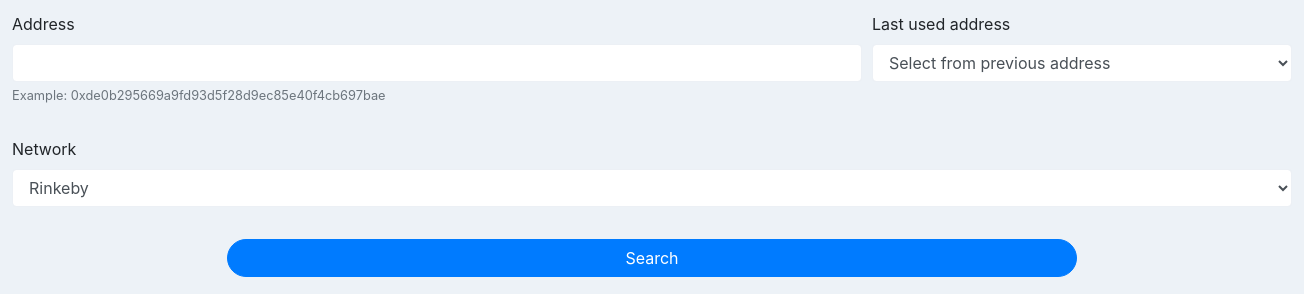
Test: Form Component › used address work correctly
Select "0xb3775fb83f7d12a36e0475abdd1fca35c091efbe" in the dropdown with id "select-addresses". click: [1082, 63]
box: [872, 44, 1292, 82]
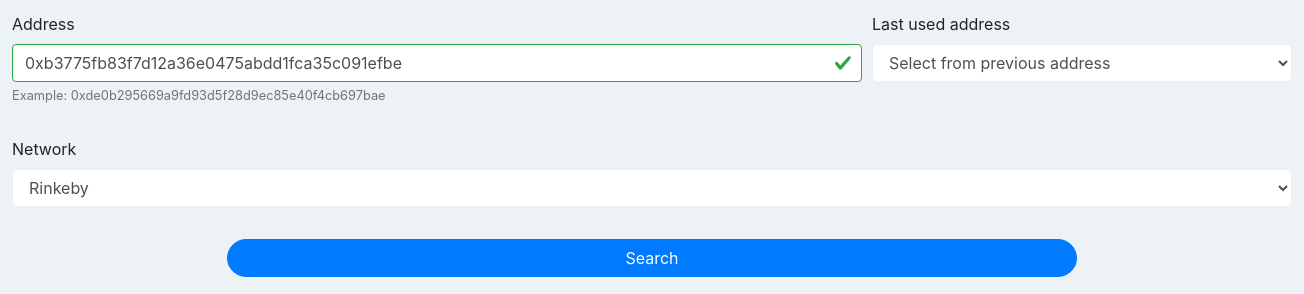
Check: the field with id "input-address" holds "0xb3775fb83f7d12a36e0475abdd1fca35c091efbe", box [12, 44, 862, 82]
